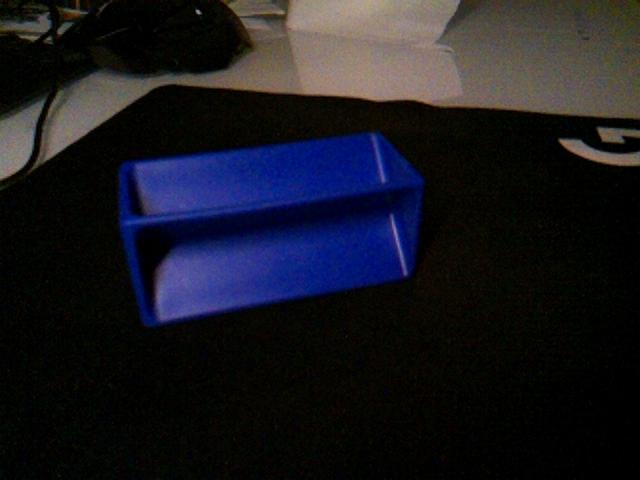blue: (116, 129, 427, 328)
